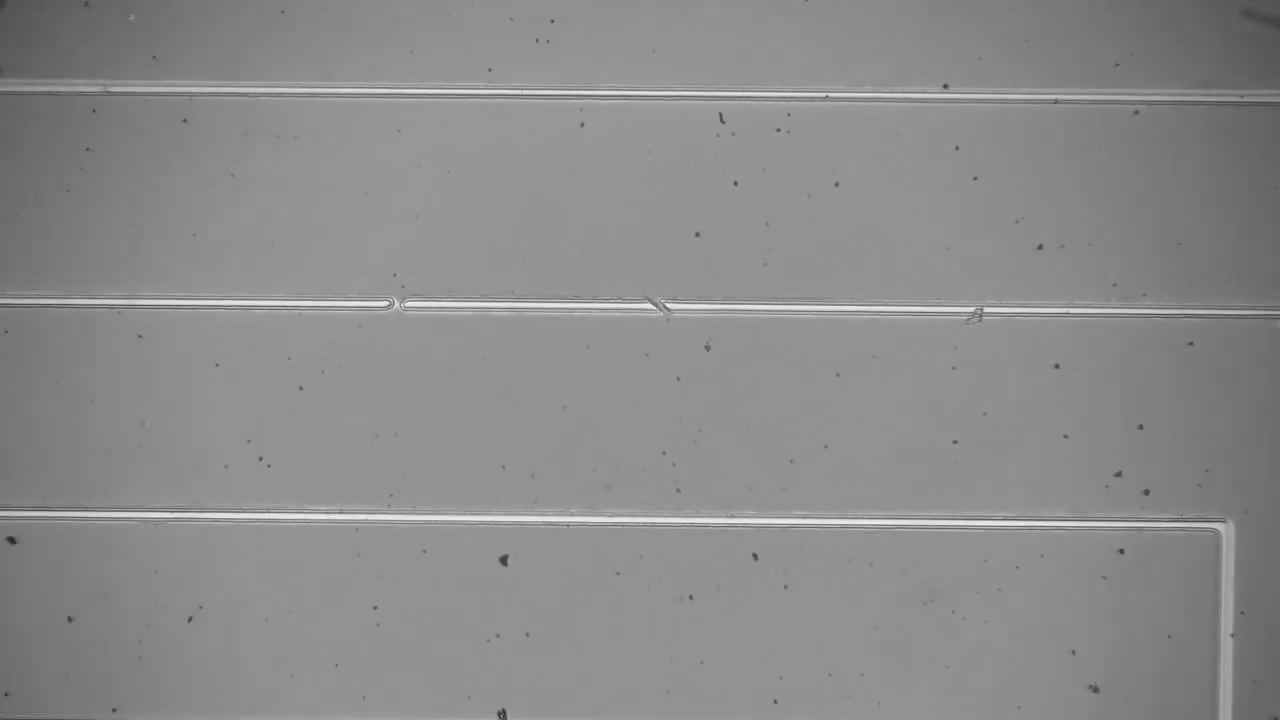open: (632, 284, 682, 329), (377, 287, 421, 325)
stains_enbedded: (955, 295, 996, 333)
